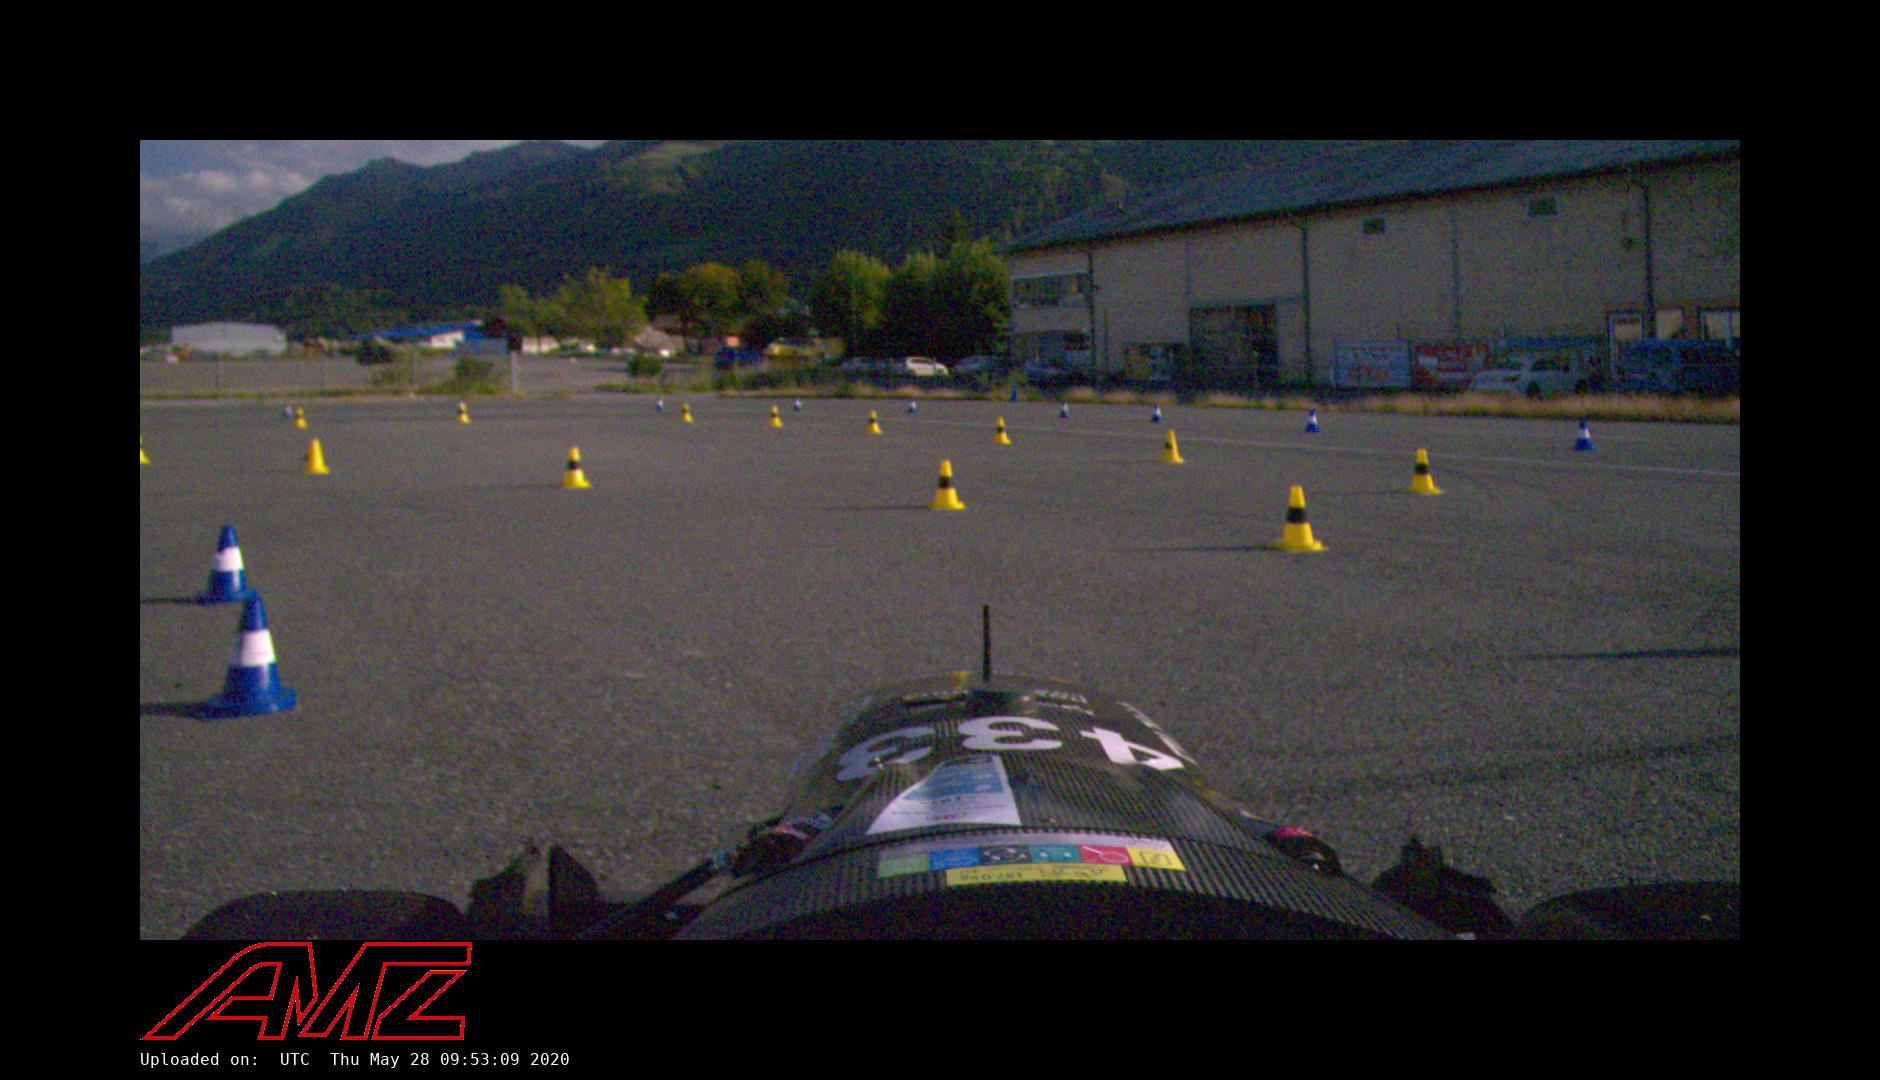blue_cone: (196, 598, 296, 716), (196, 526, 256, 605), (1571, 421, 1596, 450), (1304, 410, 1320, 433), (1150, 406, 1165, 422), (1059, 400, 1070, 419), (793, 397, 802, 412), (908, 398, 917, 413), (284, 406, 294, 419), (655, 397, 664, 410)
yellow_cone: (1271, 486, 1330, 554), (1405, 450, 1445, 495), (928, 461, 965, 510), (560, 447, 591, 488), (301, 439, 331, 474), (1157, 431, 1184, 464), (990, 417, 1011, 444), (292, 407, 309, 429), (865, 411, 881, 434), (767, 406, 782, 428), (456, 403, 471, 422), (679, 404, 693, 422)
